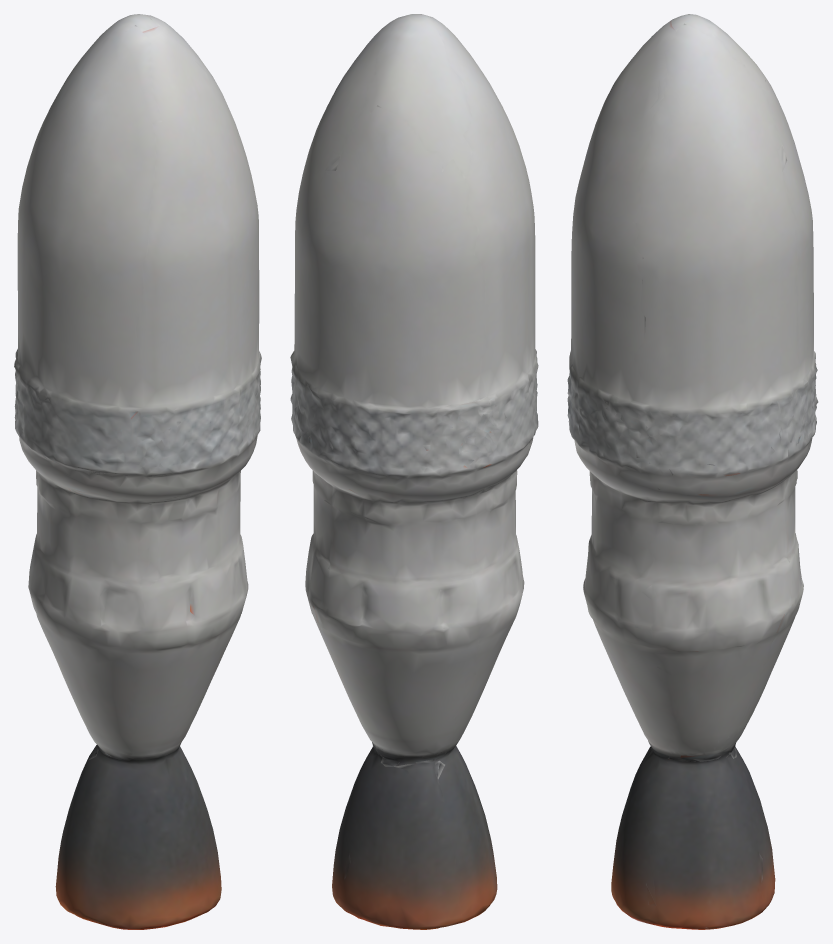
Rendered from second_stage.glb.
3 renders of one model, left to right at view 1: azimuth 30°, elevation 25°; view 2: azimuth 150°, elevation 25°; view 3: azimuth 270°, elevation 25°, orthographic.
Visible parts, largest first — view 1: Mesh1.0; view 2: Mesh1.0; view 3: Mesh1.0.
Boxes of the visible parts, bbox=[...] form: Mesh1.0: bbox=[14, 14, 261, 929]; Mesh1.0: bbox=[290, 14, 538, 929]; Mesh1.0: bbox=[567, 14, 818, 929].
Bounding box in the file's own units: 0.5129 × 2.01 × 0.5194.
Materials: 1 (1 with a texture image).
